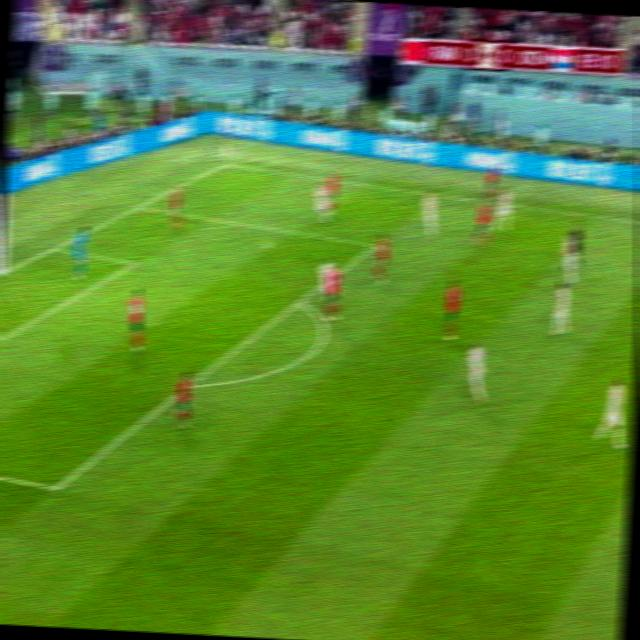bigarea_bottom_inner: (45, 474, 67, 501)
bigarea_top_inner: (369, 239, 382, 253)
bigarea_top_outter: (132, 200, 146, 211)
bottom_arc_area_intersection: (185, 379, 196, 394)
corner: (220, 159, 234, 168)
smallarea_top_inner: (128, 256, 143, 271)
smallarea_top_outter: (48, 240, 63, 254)
top_arc_area_intersection: (293, 294, 307, 309)
